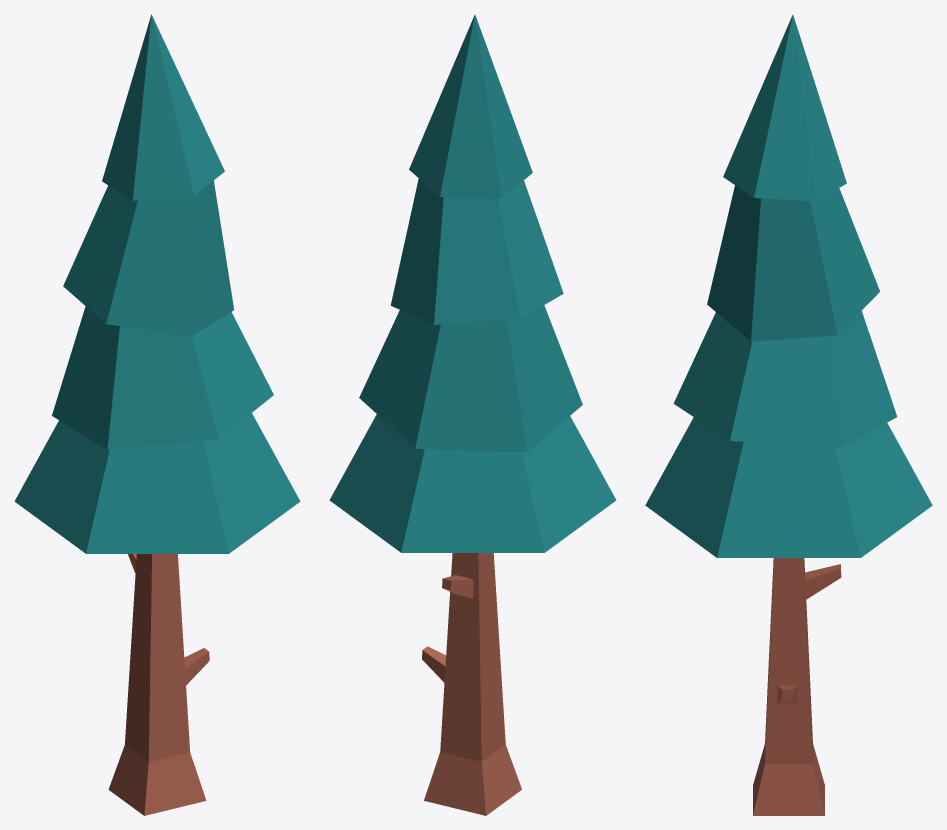
The model's file is pine_c.glb.
The picture shows the model from 3 angles, left to right: view 1: azimuth 30°, elevation 25°; view 2: azimuth 150°, elevation 25°; view 3: azimuth 270°, elevation 25°; orthographic projection.
Size of the model in its own units: 0.4804 by 1.67 by 0.5547.
